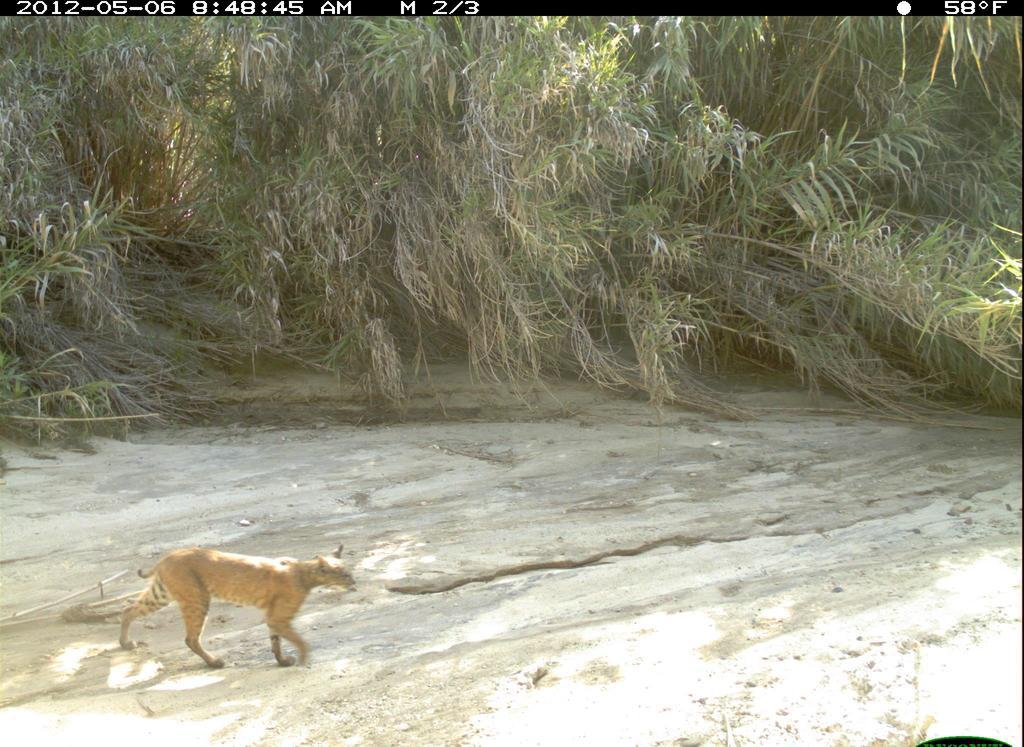bobcat: (111, 534, 360, 678)
